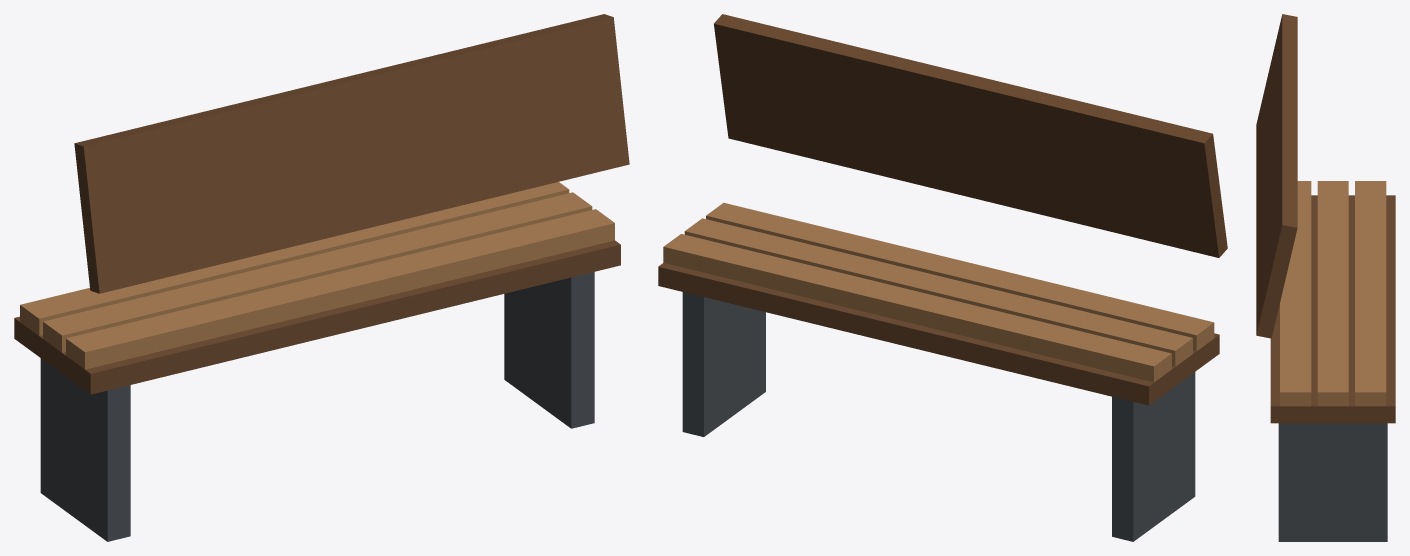
The model's file is prop.bench.glb.
3 views of the same model, side by side, from view 1: azimuth 30°, elevation 25°; view 2: azimuth 150°, elevation 25°; view 3: azimuth 270°, elevation 25° (orthographic). The views are drawn at different scales.
Visible parts, largest first — view 1: prop.bench; view 2: prop.bench; view 3: prop.bench.
Boxes of the visible parts, bbox=[...] form: prop.bench: bbox=[14, 14, 629, 541]; prop.bench: bbox=[658, 14, 1227, 541]; prop.bench: bbox=[1256, 14, 1395, 541].
Bounding box in the file's own units: 1.6 × 1.15 × 0.446.
